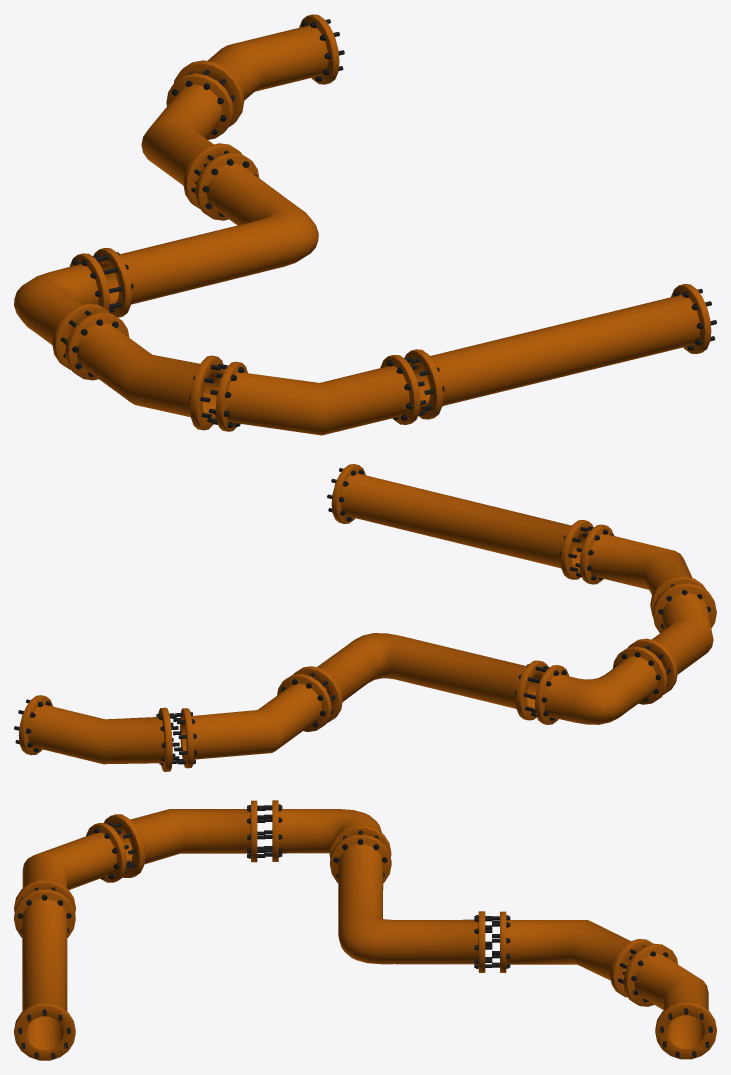
Rendered from IND_PIPE_6_2.FBX.
The picture shows the model from 3 angles, top to bottom: view 1: azimuth 30°, elevation 25°; view 2: azimuth 150°, elevation 25°; view 3: azimuth 270°, elevation 25°; orthographic projection. The views are drawn at different scales.
Parts seen in each view (by area): view 1: Cylinder029, Pipe_6; view 2: Cylinder029, Pipe_6; view 3: Cylinder029, Pipe_6, screws027.
Part boxes in pixels (x1,y1,x2,y2): Cylinder029: (14, 14, 711, 435); Pipe_6: (64, 19, 716, 427); Cylinder029: (18, 464, 716, 771); Pipe_6: (14, 468, 710, 765); Cylinder029: (14, 800, 716, 1060); Pipe_6: (17, 805, 712, 1059); screws027: (264, 804, 282, 857).
Bounding box in the file's own units: 1648 × 205 × 2242.
